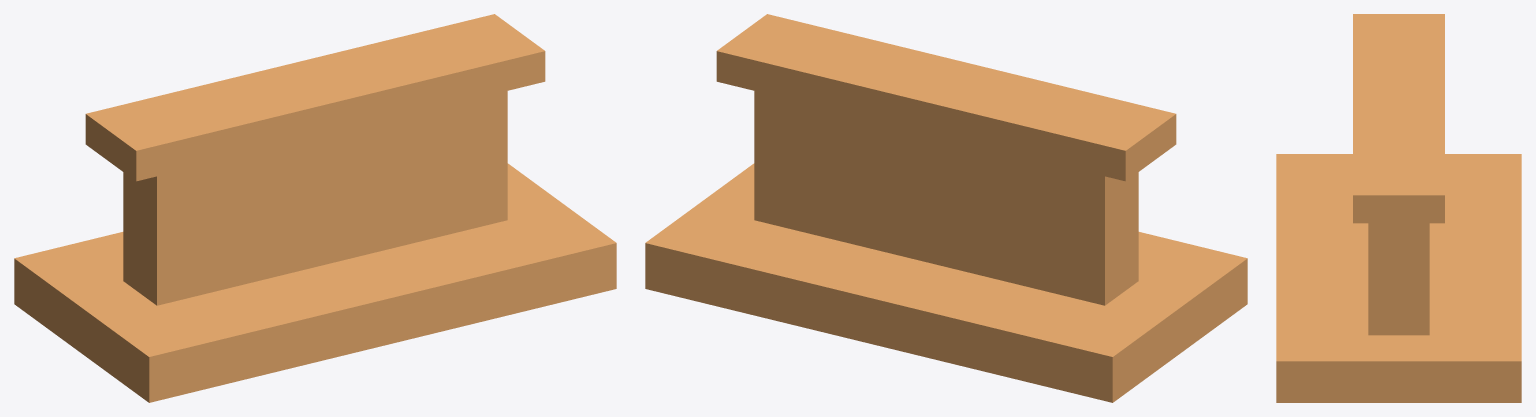
Rendered from spoiler.glb.
3 renders of one model, left to right at view 1: azimuth 30°, elevation 25°; view 2: azimuth 150°, elevation 25°; view 3: azimuth 270°, elevation 25°, orthographic. The views are drawn at different scales.
Parts seen in each view (by area): view 1: spoiler; view 2: spoiler; view 3: spoiler.
Part boxes in pixels (left/top/right/bottom): spoiler: left=14, top=14, right=616, bottom=402; spoiler: left=645, top=14, right=1247, bottom=402; spoiler: left=1276, top=14, right=1521, bottom=402.
Size of the model in its own units: 0.032 by 0.014 by 0.016.
